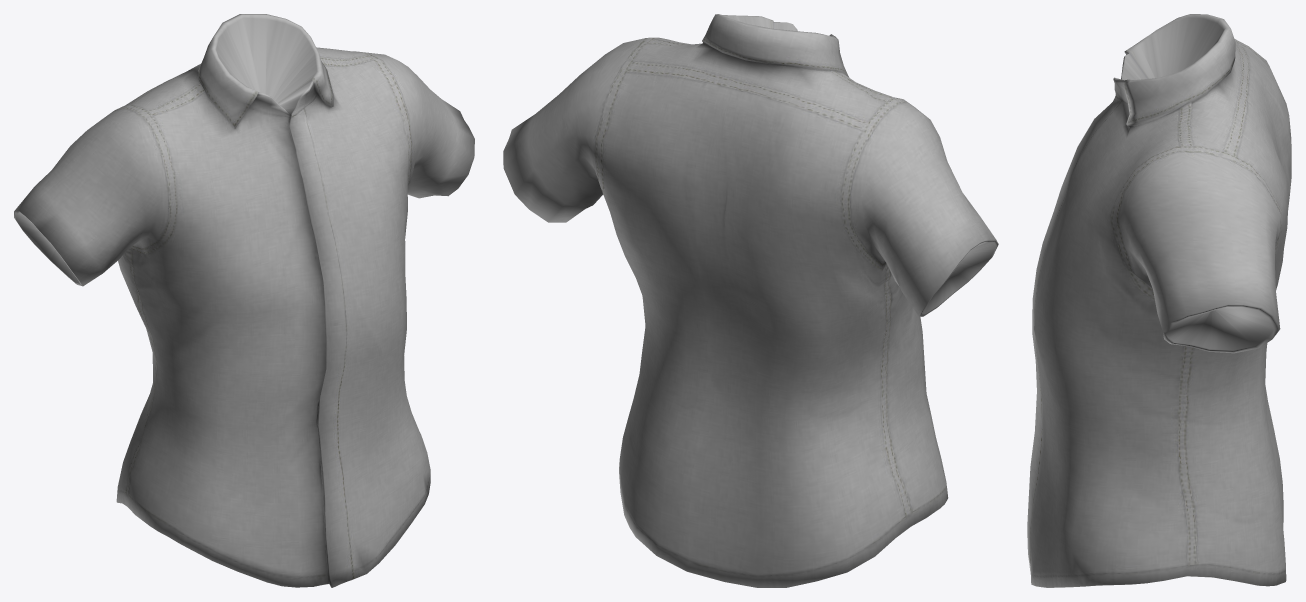
The model's file is v3_phr_male_UA_top_shirt_basic_ss_white.glb.
3 renders of one model, left to right at view 1: azimuth 30°, elevation 25°; view 2: azimuth 150°, elevation 25°; view 3: azimuth 270°, elevation 25°, orthographic. The views are drawn at different scales.
Parts seen in each view (by area): view 1: UnionAvatars_Top; view 2: UnionAvatars_Top; view 3: UnionAvatars_Top.
Boxes of the visible parts, bbox=[...] form: UnionAvatars_Top: bbox=[14, 14, 474, 587]; UnionAvatars_Top: bbox=[503, 14, 998, 587]; UnionAvatars_Top: bbox=[1027, 14, 1291, 587].
Bounding box in the file's own units: 0.5603 × 0.6232 × 0.2742.
1 material, 1 textured.
